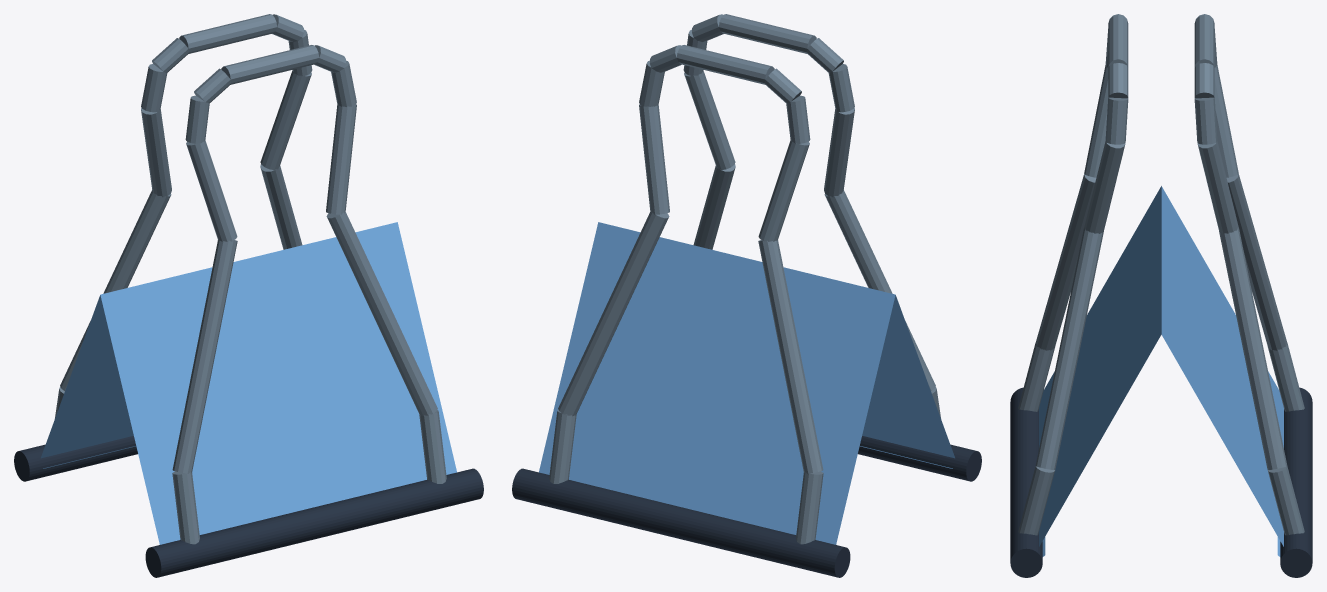
File: binder.glb
3 renders of one model, left to right at view 1: azimuth 30°, elevation 25°; view 2: azimuth 150°, elevation 25°; view 3: azimuth 270°, elevation 25°, orthographic. The views are drawn at different scales.
Visible parts, largest first — view 1: fold 0, front lip, fold 1, wire 11, wire 19, rear lip, wire -11, wire 18, wire 12, wire -18, wire -15, wire 15 (+9 smaller); view 2: fold 1, rear lip, fold 0, wire -11, wire -19, front lip, wire 11, wire -18, wire -12, wire 18, wire 15, wire -15 (+9 smaller); view 3: fold 0, fold 1, wire -19, wire 19, rear lip, front lip, wire -11, wire 11, wire -18, wire 18, wire -110, wire 110 (+10 smaller).
Boxes of the visible parts, x1,y1,x2,y2 form: fold 0: (100,222,456,544); front lip: (145,468,483,577); fold 1: (41,295,133,458); wire 11: (172,240,237,473); wire 19: (326,211,437,416); rear lip: (14,436,137,481); wire -11: (60,190,171,391); wire 18: (326,104,356,214); wire 12: (186,140,237,241); wire -18: (260,70,311,169); wire -15: (179,14,276,53); wire 15: (221,45,319,84); fold 1: (539,222,895,544); rear lip: (512,468,850,577); fold 0: (862,295,954,458); wire -11: (758,240,823,473); wire -19: (558,211,669,416); front lip: (858,436,981,481); wire 11: (824,190,935,391); wire -18: (639,104,669,214); wire -12: (758,140,809,241); wire 18: (684,70,735,169); wire 15: (719,14,816,53); wire -15: (676,45,774,84); fold 0: (1039,186,1161,546); fold 1: (1161,186,1283,546); wire -19: (1219,228,1287,469); wire 19: (1035,228,1103,469); rear lip: (1280,387,1312,577); front lip: (1010,387,1042,577); wire -11: (1226,174,1287,350); wire 11: (1035,174,1096,350); wire -18: (1197,141,1238,233); wire 18: (1084,141,1125,233); wire -110: (1267,466,1304,535); wire 110: (1018,466,1055,535).
Size of the model in its own units: 1.02 by 1.36 by 0.806.
